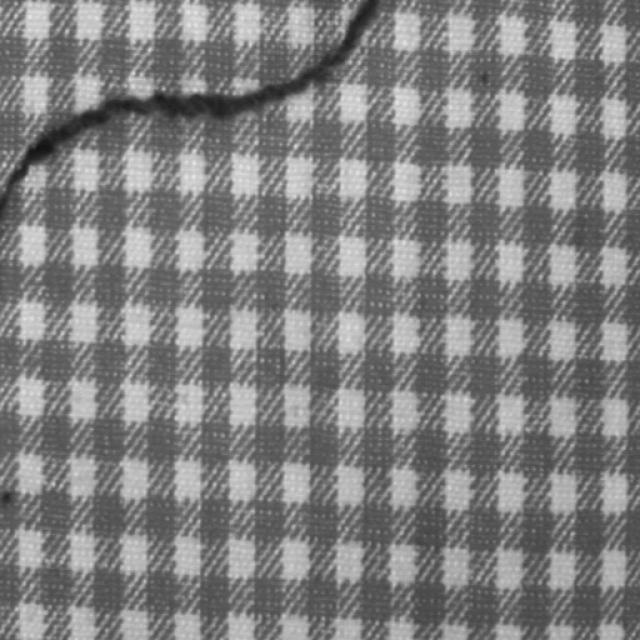Foreign-Body-Defect: (4, 0, 382, 221)
